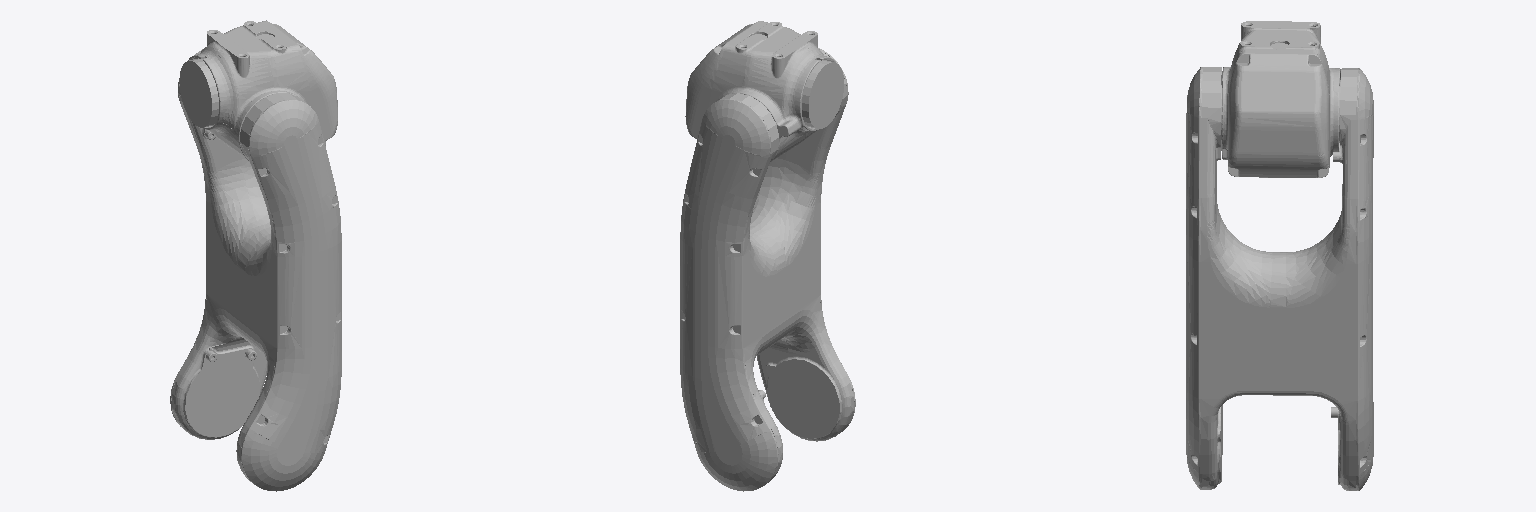
URDF robot description (gp7_robot):
<?xml version="1.0" encoding="utf-8"?>
<!-- This URDF was automatically created by SolidWorks to URDF Exporter! Originally created by [author] ([email redacted]) 
     Commit Version: 1.6.0-4-g7f85cfe  Build Version: 1.6.7995.38578
     For more information, please see http://wiki.ros.org/sw_urdf_exporter -->
<robot
  name="gp7_robot">
  <link
    name="base_link">
    <inertial>
      <origin
        xyz="0.00556899384123783 0.0947579571734833 6.09611647775227E-07"
        rpy="0 0 0" />
      <mass
        value="5.21544442918112" />
      <inertia
        ixx="0.0260256818370489"
        ixy="-0.000139844186899234"
        ixz="2.59241629433919E-05"
        iyy="0.0217205325248604"
        iyz="-4.76767375395997E-05"
        izz="0.0252950790006553" />
    </inertial>
    <visual>
      <origin
        xyz="0 0 0"
        rpy="0 0 0" />
      <geometry>
        <mesh
          filename="package://gp7_robot_description/meshes/base_link.STL" />
      </geometry>
      <material
        name="">
        <color
          rgba="0.752941176470588 0.752941176470588 0.752941176470588 1" />
      </material>
    </visual>
    <collision>
      <origin
        xyz="0 0 0"
        rpy="0 0 0" />
      <geometry>
        <mesh
          filename="package://gp7_robot_description/meshes/base_link.STL" />
      </geometry>
    </collision>
  </link>
  <link
    name="Link_1">
    <inertial>
      <origin
        xyz="0.000134503059806308 0.0998494433062664 -0.0156718313852401"
        rpy="0 0 0" />
      <mass
        value="2.94469826995042" />
      <inertia
        ixx="0.0119470132536149"
        ixy="-1.22546342961158E-06"
        ixz="1.70307901366958E-06"
        iyy="0.00886869039864905"
        iyz="0.00217925633010803"
        izz="0.011181352972868" />
    </inertial>
    <visual>
      <origin
        xyz="0 0 0"
        rpy="0 0 0" />
      <geometry>
        <mesh
          filename="package://gp7_robot_description/meshes/Link_1.STL" />
      </geometry>
      <material
        name="">
        <color
          rgba="0.752941176470588 0.752941176470588 0.752941176470588 1" />
      </material>
    </visual>
    <collision>
      <origin
        xyz="0 0 0"
        rpy="0 0 0" />
      <geometry>
        <mesh
          filename="package://gp7_robot_description/meshes/Link_1.STL" />
      </geometry>
    </collision>
  </link>
  <joint
    name="Joint_0"
    type="revolute">
    <origin
      xyz="0 0 0.1901"
      rpy="1.5708 0 1.5446" />
    <parent
      link="base_link" />
    <child
      link="Link_1" />
    <axis
      xyz="0 1 0" />
    <limit
      lower="-2.9671"
      upper="2.9671"
      effort="100"
      velocity="1.0" />
  </joint>
  <link
    name="Link_2">
    <inertial>
      <origin
        xyz="0.0276252074771908 0.000201917636819981 -0.194988821585821"
        rpy="0 0 0" />
      <mass
        value="6.24054918807357" />
      <inertia
        ixx="0.126298756807147"
        ixy="4.29059114902895E-05"
        ixz="-0.000192552588249394"
        iyy="0.110519522576684"
        iyz="0.000482840080846314"
        izz="0.0277565663536992" />
    </inertial>
    <visual>
      <origin
        xyz="0 0 0"
        rpy="0 0 0" />
      <geometry>
        <mesh
          filename="package://gp7_robot_description/meshes/Link_2.STL" />
      </geometry>
      <material
        name="">
        <color
          rgba="0.752941176470588 0.752941176470588 0.752941176470588 1" />
      </material>
    </visual>
    <collision>
      <origin
        xyz="0 0 0"
        rpy="0 0 0" />
      <geometry>
        <mesh
          filename="package://gp7_robot_description/meshes/Link_2.STL" />
      </geometry>
    </collision>
  </link>
  <joint
    name="Joint_1"
    type="revolute">
    <origin
      xyz="0 0.1399 -0.04"
      rpy="1.5708 -1.5708 0" />
    <parent
      link="Link_1" />
    <child
      link="Link_2" />
    <axis
      xyz="0 1 0" />
    <limit
      lower="-1.1345"
      upper="2.0944"
      effort="100"
      velocity="1.0" />
  </joint>
  <link
    name="Link_3">
    <inertial>
      <origin
        xyz="-0.0159086607027991 -0.000853911402927798 0.020054990140129"
        rpy="0 0 0" />
      <mass
        value="2.84915105674415" />
      <inertia
        ixx="0.00823186088760799"
        ixy="2.89656323772818E-05"
        ixz="-0.000903674014765267"
        iyy="0.00779150669560934"
        iyz="-3.86443268039045E-05"
        izz="0.00693418516528985" />
    </inertial>
    <visual>
      <origin
        xyz="0 0 0"
        rpy="0 0 0" />
      <geometry>
        <mesh
          filename="package://gp7_robot_description/meshes/Link_3.STL" />
      </geometry>
      <material
        name="">
        <color
          rgba="0.752941176470588 0.752941176470588 0.752941176470588 1" />
      </material>
    </visual>
    <collision>
      <origin
        xyz="0 0 0"
        rpy="0 0 0" />
      <geometry>
        <mesh
          filename="package://gp7_robot_description/meshes/Link_3.STL" />
      </geometry>
    </collision>
  </link>
  <joint
    name="Joint_2"
    type="revolute">
    <origin
      xyz="0 0 -0.445"
      rpy="3.1416 0 3.1416" />
    <parent
      link="Link_2" />
    <child
      link="Link_3" />
    <axis
      xyz="0 1 0" />
    <limit
      lower="-1.2217"
      upper="3.3161"
      effort="100"
      velocity="1.0" />
  </joint>
  <link
    name="Link_4">
    <inertial>
      <origin
        xyz="0.177174802383241 -0.00015216015435715 -0.000157756334050222"
        rpy="0 0 0" />
      <mass
        value="2.75543486027643" />
      <inertia
        ixx="0.00308572082590302"
        ixy="3.99895075414287E-06"
        ixz="-0.000318616375094939"
        iyy="0.0100848197701691"
        iyz="-2.48795451805911E-06"
        izz="0.0107851177216757" />
    </inertial>
    <visual>
      <origin
        xyz="0 0 0"
        rpy="0 0 0" />
      <geometry>
        <mesh
          filename="package://gp7_robot_description/meshes/Link_4.STL" />
      </geometry>
      <material
        name="">
        <color
          rgba="0.752941176470588 0.752941176470588 0.752941176470588 1" />
      </material>
    </visual>
    <collision>
      <origin
        xyz="0 0 0"
        rpy="0 0 0" />
      <geometry>
        <mesh
          filename="package://gp7_robot_description/meshes/Link_4.STL" />
      </geometry>
    </collision>
  </link>
  <joint
    name="Joint_3"
    type="revolute">
    <origin
      xyz="0.068592 0 0.04"
      rpy="1.5708 0 0" />
    <parent
      link="Link_3" />
    <child
      link="Link_4" />
    <axis
      xyz="1 0 0" />
    <limit
      lower="-3.3161"
      upper="3.3161"
      effort="100"
      velocity="1.0" />
  </joint>
  <link
    name="Link_5">
    <inertial>
      <origin
        xyz="0.000253905873221272 0.0132104932030859 -0.00174847528345036"
        rpy="0 0 0" />
      <mass
        value="0.24588630034741" />
      <inertia
        ixx="0.000139534602258257"
        ixy="-2.11771789628785E-06"
        ixz="1.96184580581413E-07"
        iyy="0.000156835351922146"
        iyz="-1.29214917414175E-06"
        izz="0.0001856168810843" />
    </inertial>
    <visual>
      <origin
        xyz="0 0 0"
        rpy="0 0 0" />
      <geometry>
        <mesh
          filename="package://gp7_robot_description/meshes/Link_5.STL" />
      </geometry>
      <material
        name="">
        <color
          rgba="0.752941176470588 0.752941176470588 0.752941176470588 1" />
      </material>
    </visual>
    <collision>
      <origin
        xyz="0 0 0"
        rpy="0 0 0" />
      <geometry>
        <mesh
          filename="package://gp7_robot_description/meshes/Link_5.STL" />
      </geometry>
    </collision>
  </link>
  <joint
    name="Joint_4"
    type="revolute">
    <origin
      xyz="0.37141 0 0"
      rpy="3.1416 0 1.5708" />
    <parent
      link="Link_4" />
    <child
      link="Link_5" />
    <axis
      xyz="0 0 1" />
    <limit
      lower="-2.3562"
      upper="2.3562"
      effort="100"
      velocity="1.0" />
  </joint>
  <link
    name="Link_6">
    <inertial>
      <origin
        xyz="0.00818428855341535 -8.73745520379998E-14 -6.68341476350361E-05"
        rpy="0 0 0" />
      <mass
        value="0.0241915724295803" />
      <inertia
        ixx="8.98081073180324E-06"
        ixy="-4.45920629459563E-17"
        ixz="2.0766263239999E-09"
        iyy="4.81100868909689E-06"
        iyz="-1.17305717161914E-19"
        izz="4.83536850887334E-06" />
    </inertial>
    <visual>
      <origin
        xyz="0 0 0"
        rpy="0 0 0" />
      <geometry>
        <mesh
          filename="package://gp7_robot_description/meshes/Link_6.STL" />
      </geometry>
      <material
        name="">
        <color
          rgba="0.752941176470588 0.752941176470588 0.752941176470588 1" />
      </material>
    </visual>
    <collision>
      <origin
        xyz="0 0 0"
        rpy="0 0 0" />
      <geometry>
        <mesh
          filename="package://gp7_robot_description/meshes/Link_6.STL" />
      </geometry>
    </collision>
  </link>
  <joint
    name="Joint_5"
    type="revolute">
    <origin
      xyz="0 0.06593 0"
      rpy="0 0 1.5708" />
    <parent
      link="Link_5" />
    <child
      link="Link_6" />
    <axis
      xyz="1 0 0" />
    <limit
      lower="-6.2814"
      upper="6.2814"
      effort="100"
      velocity="1.0" />
  </joint>
</robot>

--- Facts derived from the render (not from the file) ---
3 views of the same robot in one strip: view 1: azimuth 30°, elevation 25°; view 2: azimuth 150°, elevation 25°; view 3: azimuth 270°, elevation 25° (orthographic).
Robot: gp7_robot — 7 links, 6 joints (6 revolute); root link base_link; default pose: every joint at zero.
Visible links, largest first — view 1: Link_2, Link_3; view 2: Link_2, Link_3; view 3: Link_2, Link_3.
Link boxes in pixels (x1=…): Link_2: x1=170, y1=49, x2=341, y2=491; Link_3: x1=178, y1=20, x2=337, y2=160; Link_2: x1=680, y1=48, x2=855, y2=491; Link_3: x1=685, y1=21, x2=843, y2=161; Link_2: x1=1186, y1=67, x2=1373, y2=490; Link_3: x1=1221, y1=21, x2=1340, y2=177.
Size in the robot's own frame: 0.1864 by 0.2316 by 0.611 metres.
2 mesh visuals loaded from 7 distinct referenced files (2 binary STL); not drawn: 5 (file found but could not be loaded).